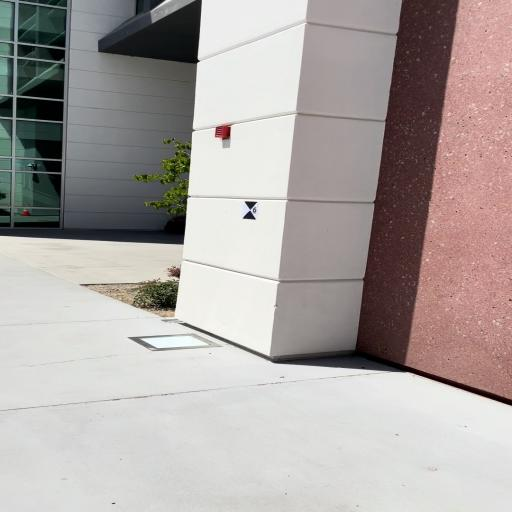target6: (242, 202, 258, 220)
